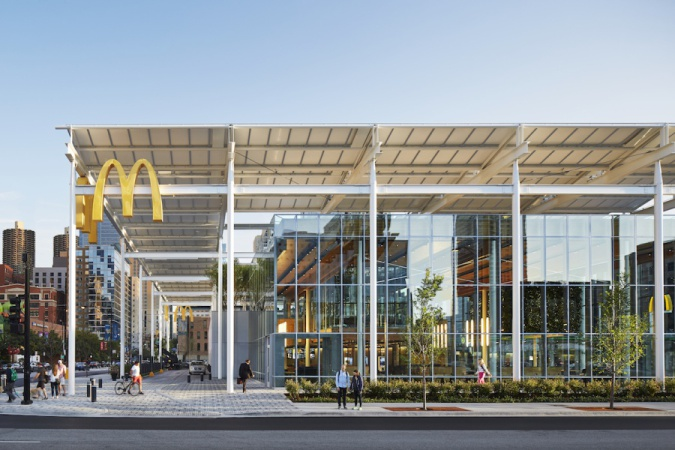mcdonalds: (89, 151, 170, 232)
